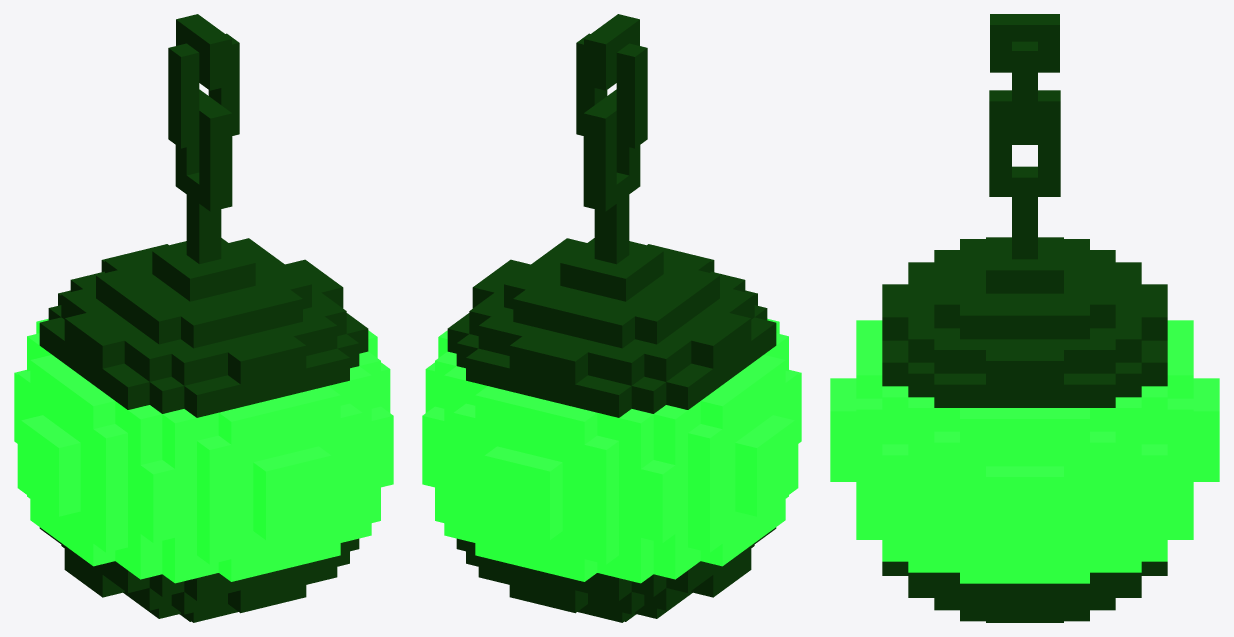
File: sewer lamp.glb
The picture shows the model from 3 angles, left to right: view 1: azimuth 30°, elevation 25°; view 2: azimuth 150°, elevation 25°; view 3: azimuth 270°, elevation 25°; orthographic projection. The views are drawn at different scales.
Visible parts, largest first — view 1: Sphere; view 2: Sphere; view 3: Sphere.
Part boxes in pixels (x1=…): Sphere: x1=14, y1=14, x2=393, y2=622; Sphere: x1=422, y1=14, x2=801, y2=622; Sphere: x1=830, y1=14, x2=1219, y2=622.
Size of the model in its own units: 0.1285 by 0.2139 by 0.1285.
